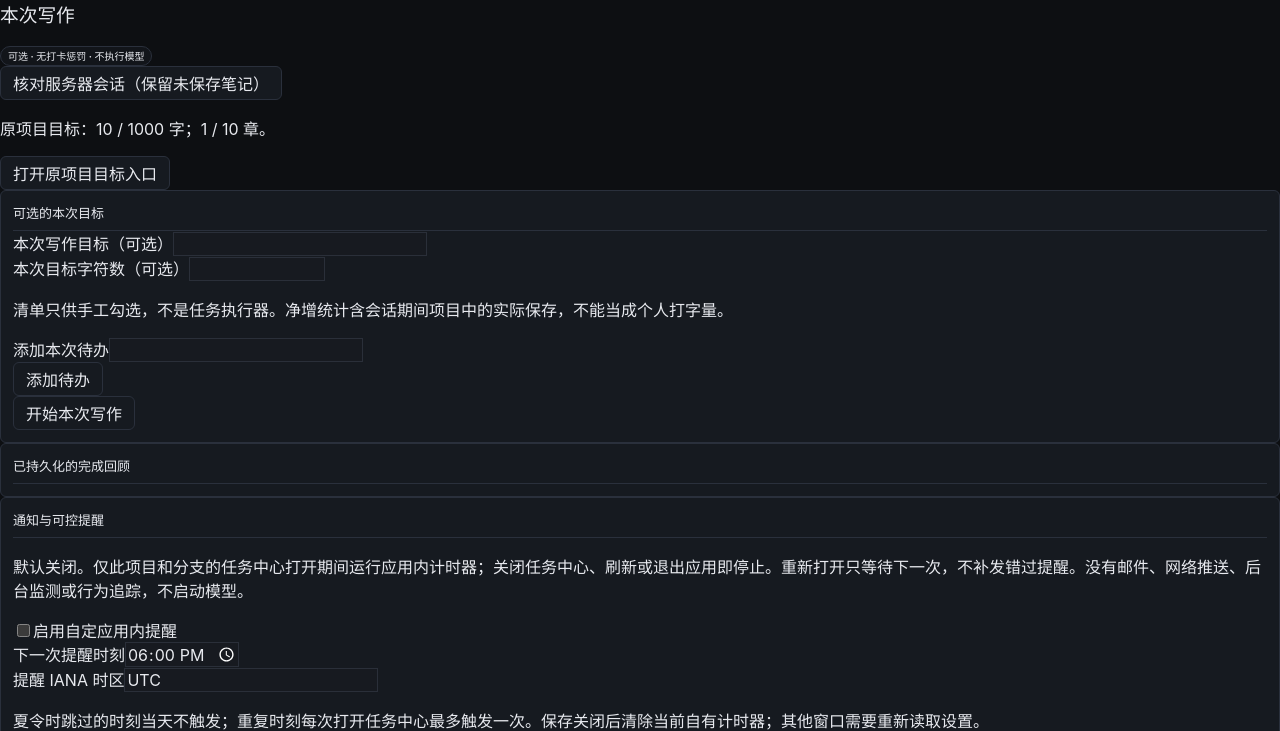
U15 persisted session and original task center › starts an optional session and completes only through actual API writes
expect the text "原项目目标：10 / 1000 字；1 / 10 章。" is shown: met, box [0, 119, 275, 139]
Type "写结尾" into the field labelled "本次写作目标（可选）" at (300, 244), box [173, 232, 427, 256]
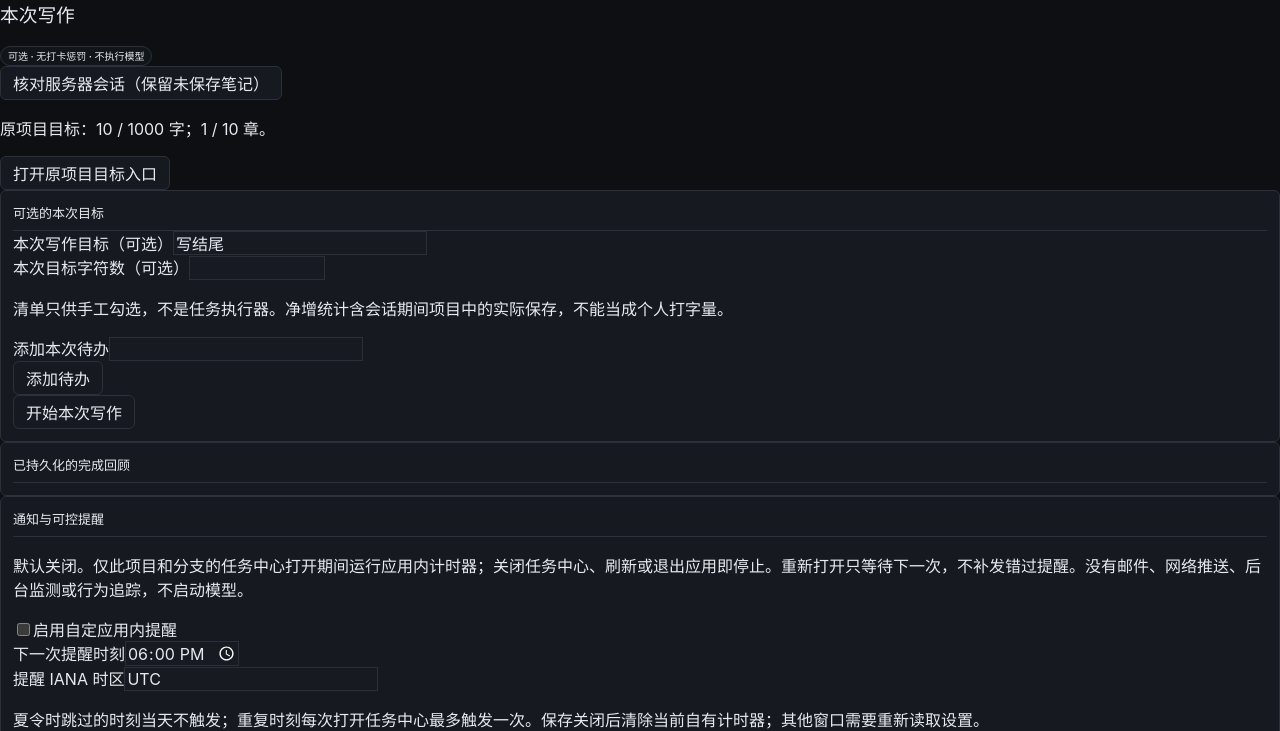
Click the button "开始本次写作" at (74, 412), box [13, 395, 135, 429]
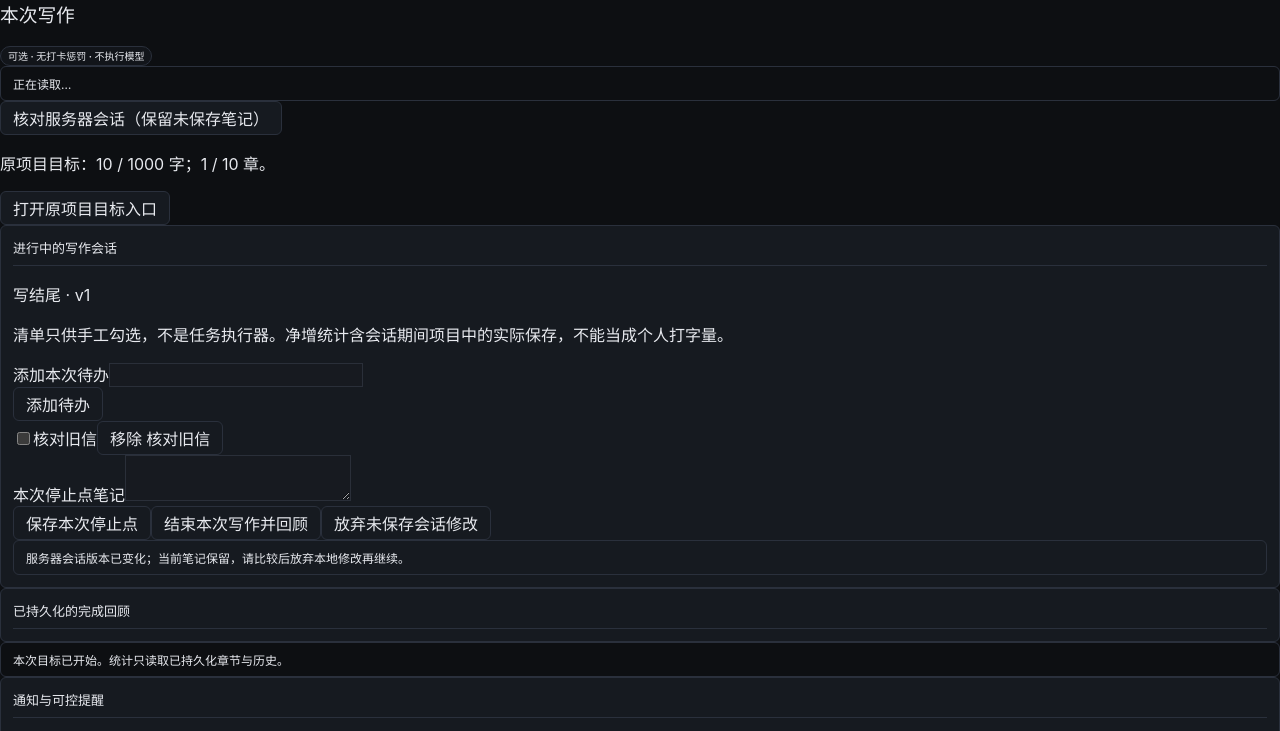
expect the text box labelled "本次停止点笔记" is shown: met, box [125, 455, 351, 501]
Click the checkbox labelled "核对旧信" at (24, 438), box [17, 432, 30, 445]
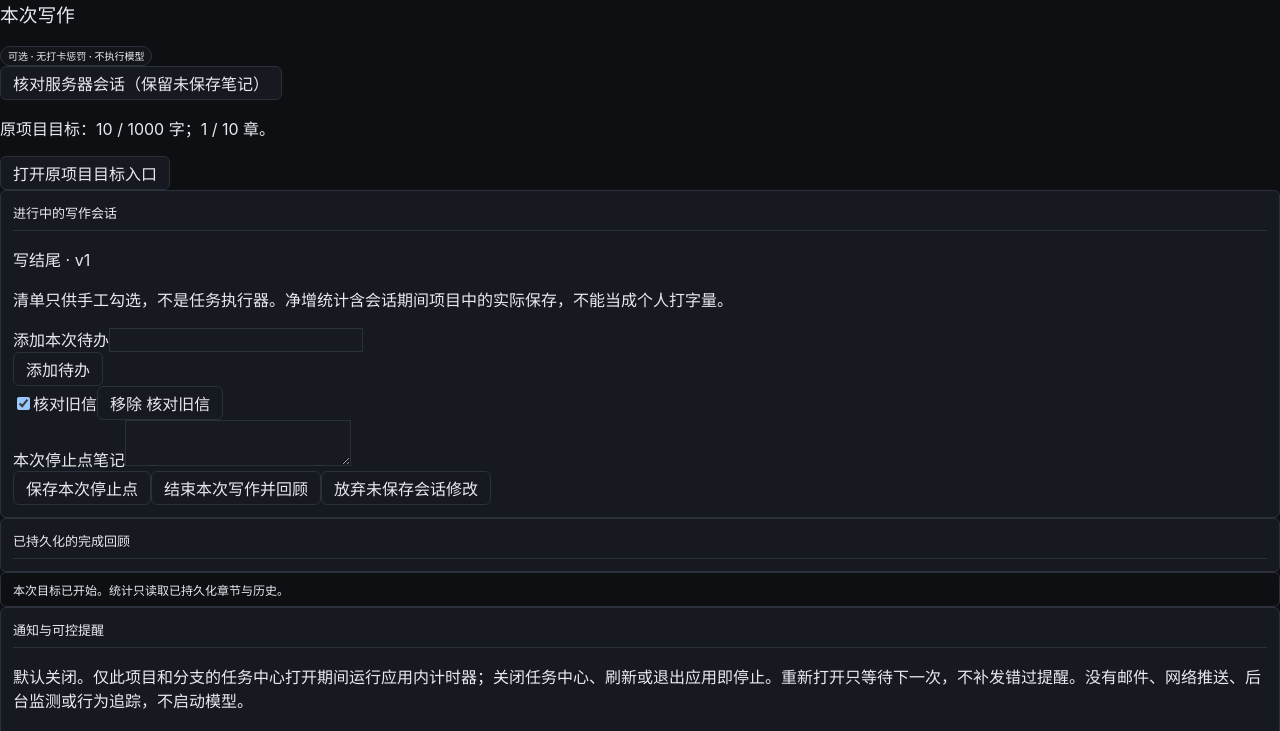
Type "下次修潮汐时间" into the text box labelled "本次停止点笔记" at (238, 443), box [125, 420, 351, 466]
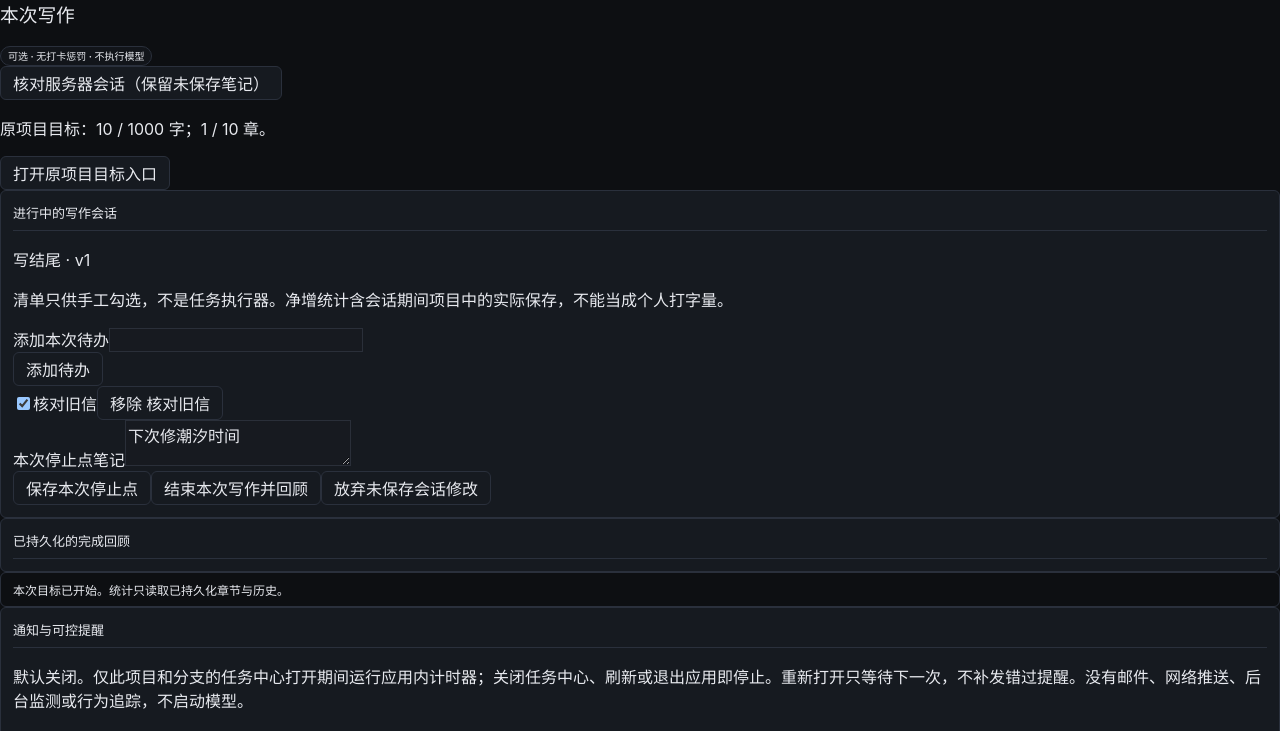
Click the button "结束本次写作并回顾" at (236, 488), box [151, 471, 321, 505]
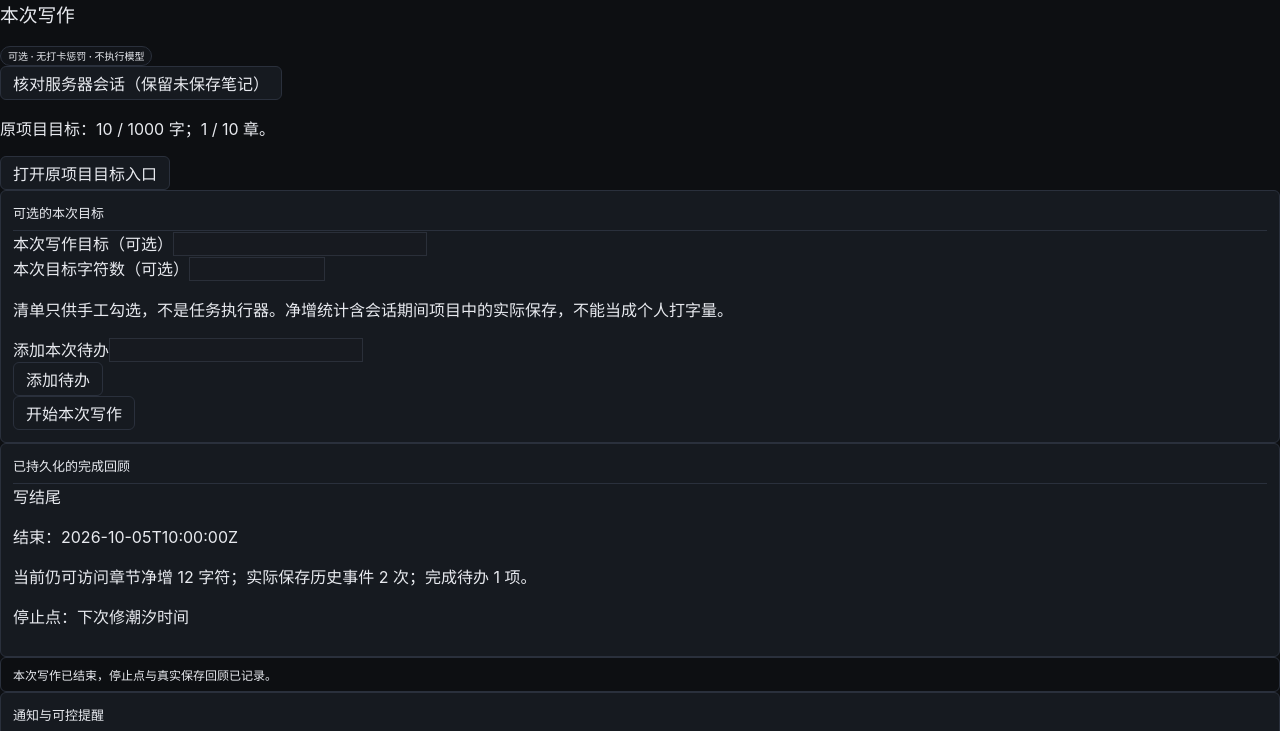
expect the text "当前仍可访问章节净增 12 字符；实际保存历史事件 2 次；完成待办 1 项。" is shown: met, box [13, 567, 537, 587]
